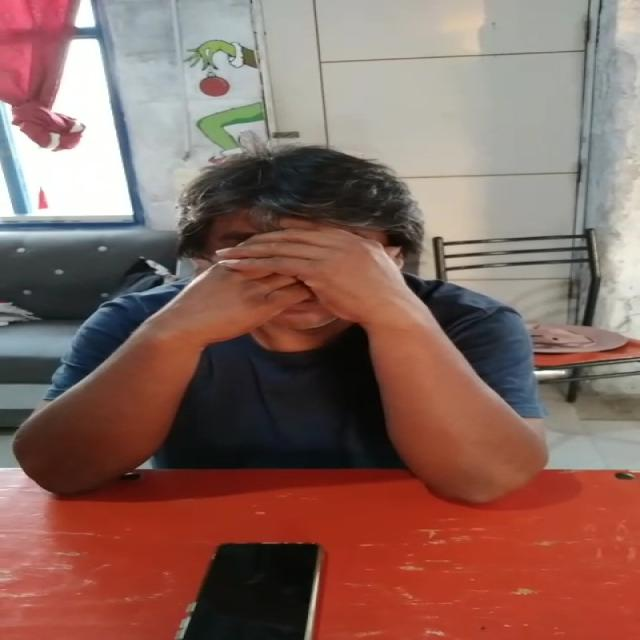7_mano_rostro: (184, 227, 411, 402)
